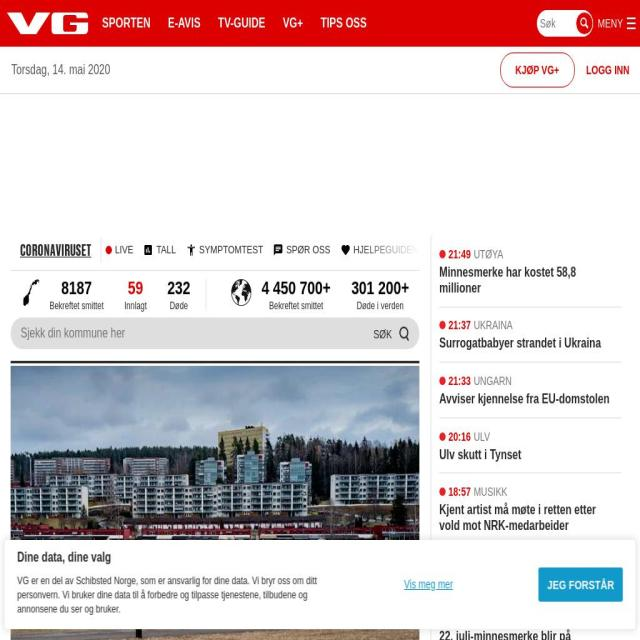button: (11, 366, 420, 640), (439, 236, 622, 306), (439, 474, 622, 544), (439, 306, 622, 362), (439, 362, 622, 418), (439, 544, 622, 600), (439, 418, 622, 473), (439, 600, 622, 640), (538, 566, 623, 602), (251, 279, 341, 312), (499, 52, 575, 88), (340, 279, 420, 312), (98, 0, 154, 47), (214, 0, 269, 47), (316, 0, 371, 47), (39, 279, 114, 312), (596, 0, 637, 47), (164, 0, 204, 47), (583, 52, 633, 88), (404, 570, 462, 599), (114, 279, 158, 312), (157, 279, 201, 312), (279, 0, 307, 47)
field: (13, 321, 417, 346), (537, 10, 593, 37)
heading: (17, 547, 342, 566), (439, 263, 617, 296), (439, 502, 617, 534), (439, 335, 617, 352), (439, 390, 617, 407), (439, 446, 617, 462), (439, 573, 617, 589), (439, 628, 617, 640)
iframe: (11, 229, 420, 271)
image: (11, 366, 420, 640), (231, 279, 251, 306), (394, 320, 414, 347), (23, 279, 39, 306)
link: (251, 279, 341, 298), (340, 279, 420, 298), (39, 279, 114, 298), (114, 279, 158, 298), (157, 279, 201, 298), (438, 373, 471, 388), (438, 247, 471, 261), (438, 318, 471, 332), (438, 429, 471, 443), (438, 485, 471, 499), (438, 556, 471, 570), (438, 612, 471, 626)
text: (17, 572, 342, 616), (11, 47, 111, 93), (268, 300, 324, 312), (50, 300, 104, 312), (473, 373, 512, 388), (356, 300, 404, 312), (473, 318, 513, 332), (473, 485, 508, 499), (473, 612, 506, 626), (473, 247, 503, 261), (473, 556, 496, 570), (124, 300, 147, 312), (598, 18, 623, 29), (169, 300, 189, 312), (473, 429, 490, 443), (373, 328, 392, 340)
